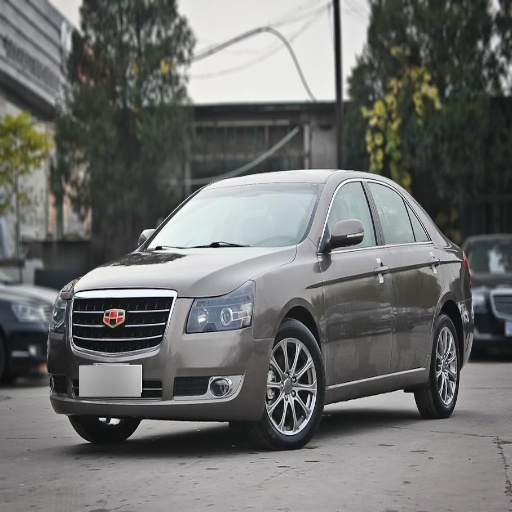front_bumper: (51, 289, 276, 420)
front_glass: (144, 184, 322, 249)
front_left_door: (319, 179, 396, 386)
